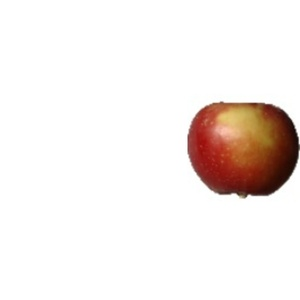maçã braeburn: (184, 98, 299, 196)
